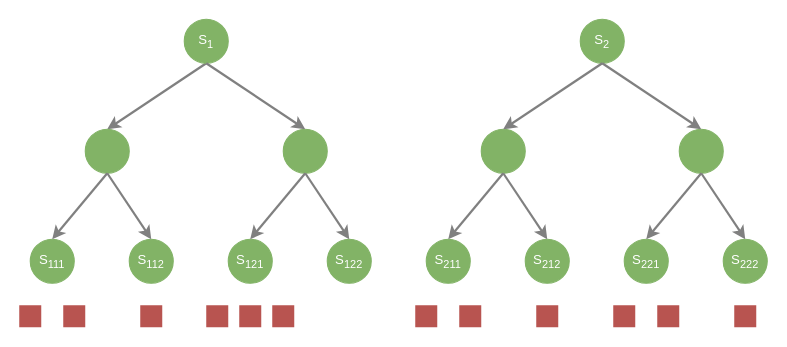
The diagram is 787 pixels wide and 347 high, and some of its shapes have lost their labels. Each missing label, with the box of its shape:
S 11: (84, 128, 129, 173)
S 12: (282, 128, 327, 173)
S 21: (480, 128, 525, 173)
S 22: (678, 128, 723, 173)
